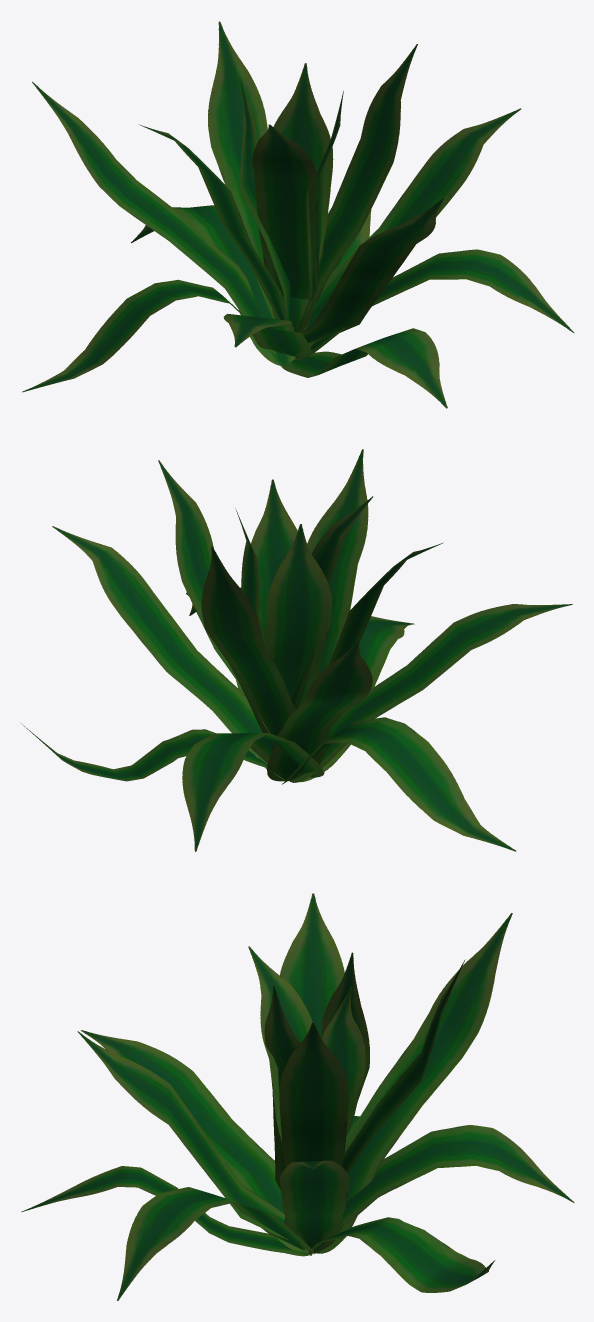
The model's file is agave.glb.
3 views of the same model, one above another, from view 1: azimuth 30°, elevation 25°; view 2: azimuth 150°, elevation 25°; view 3: azimuth 270°, elevation 25° (orthographic). The views are drawn at different scales.
Size of the model in its own units: 14.11 by 8.03 by 13.51.
Materials: 1 (1 with a texture image).
